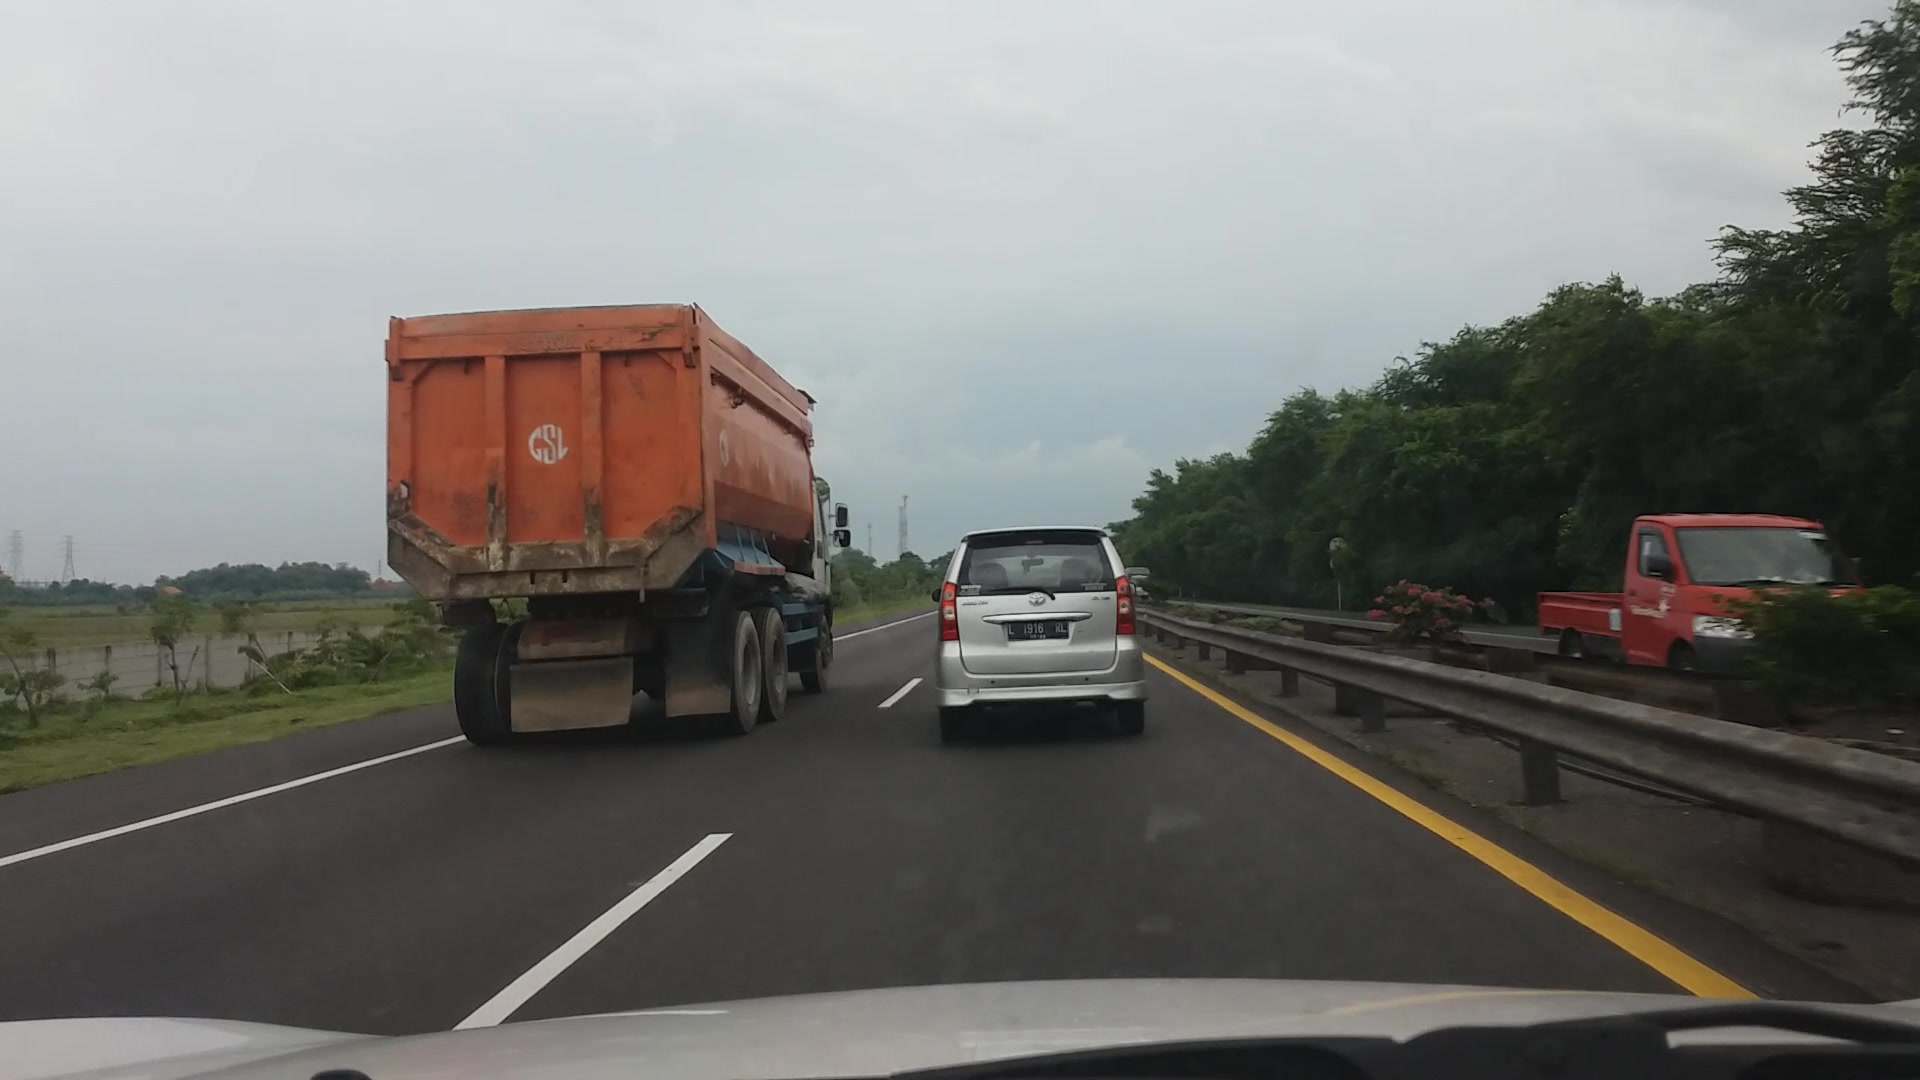plate_positive: (1007, 621, 1069, 640)
